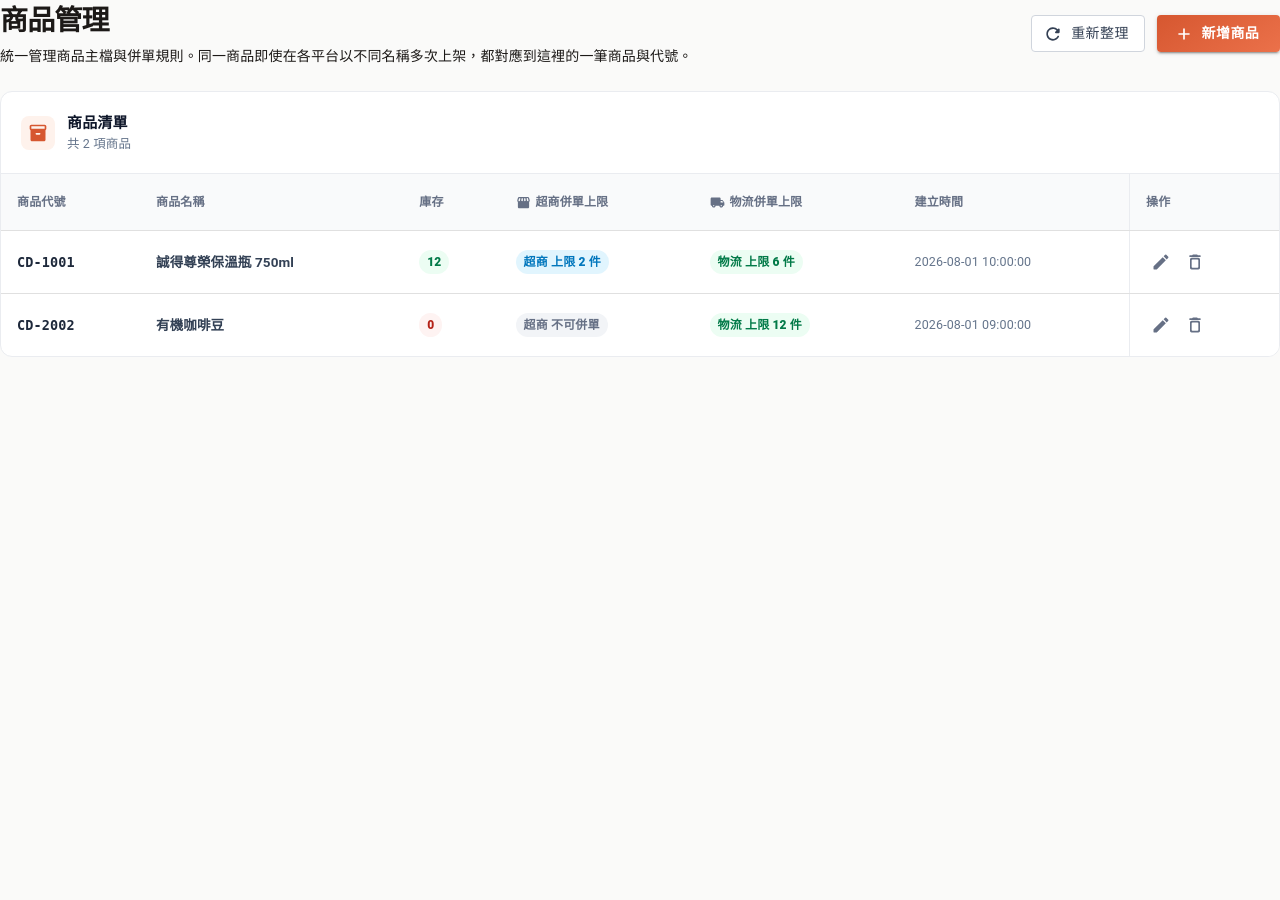
儲存變更會帶著商品 id 與新值呼叫 updateProduct，並重新載入清單
The width and height of the screenshot is (1280, 900).
Expected: the text "誠得尊榮保溫瓶 750ml" is shown, [156,254,294,270]
Click the button named "修改商品" in the row of "CD-1001". click: (1161, 262)
box: [1146,247,1176,277]
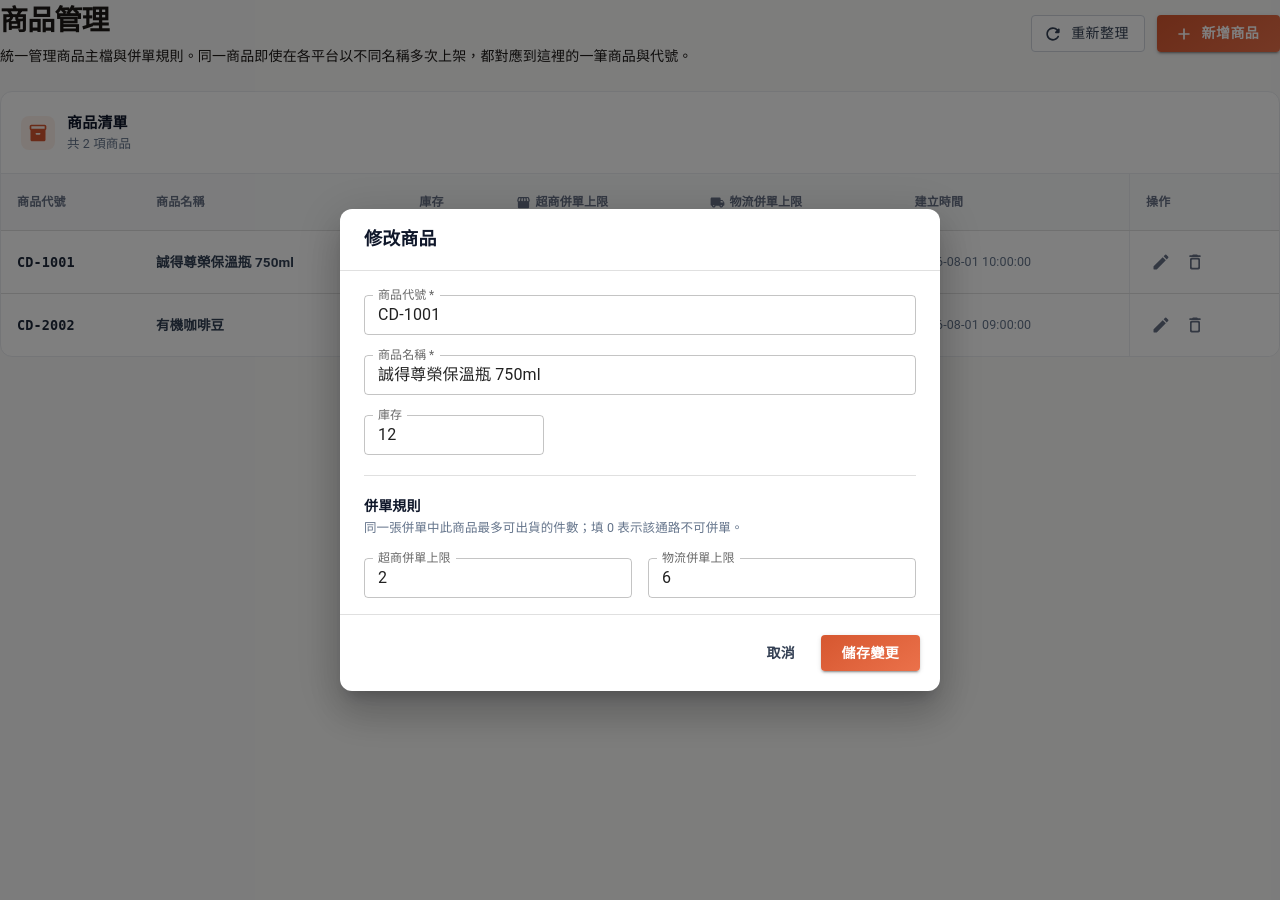
Replace the text in the field labelled "商品名稱 *" with "新名稱". click: (640, 375)
box: [364,355,916,395]
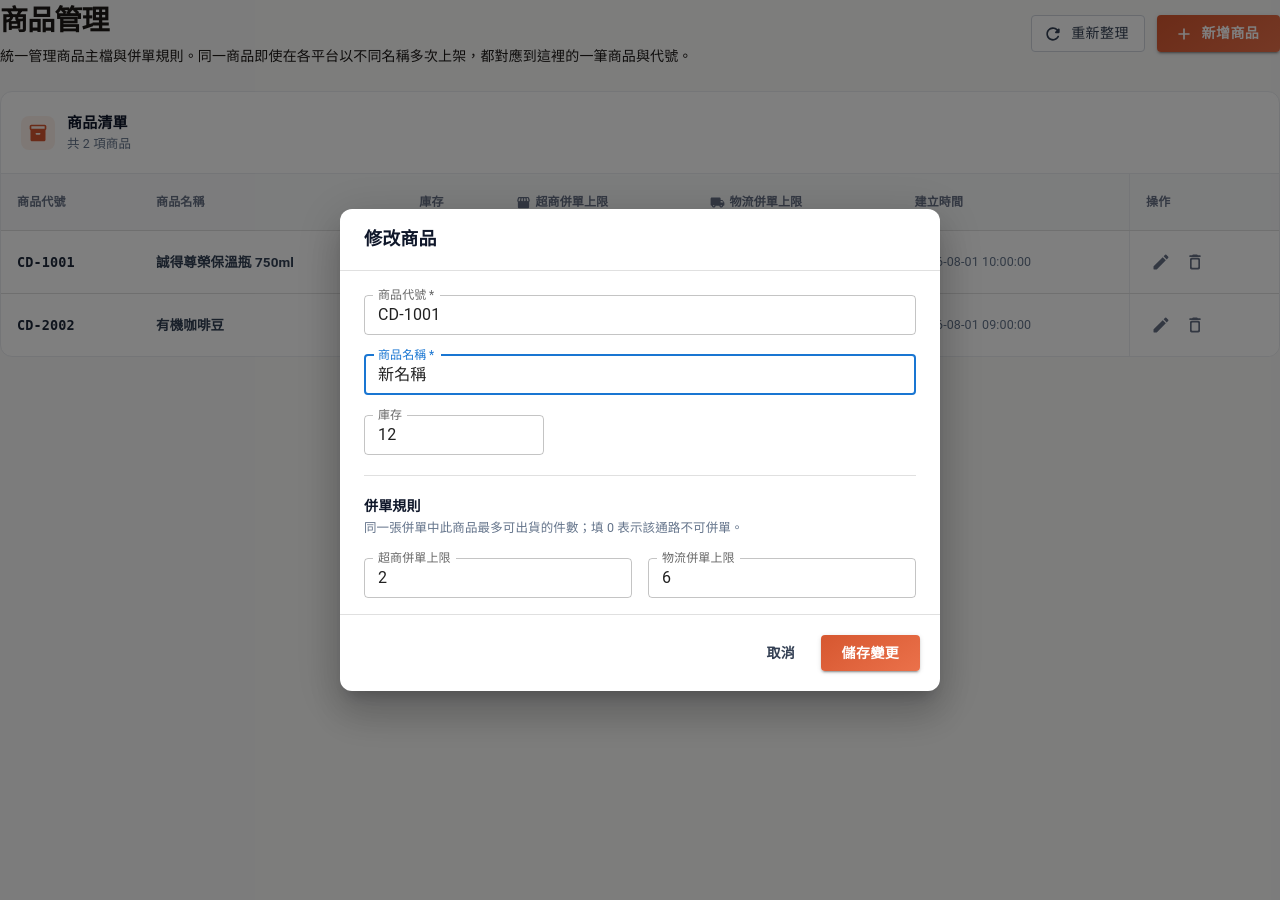
Replace the text in the number field labelled "庫存" with "30". click: (454, 435)
box: [364,415,544,455]
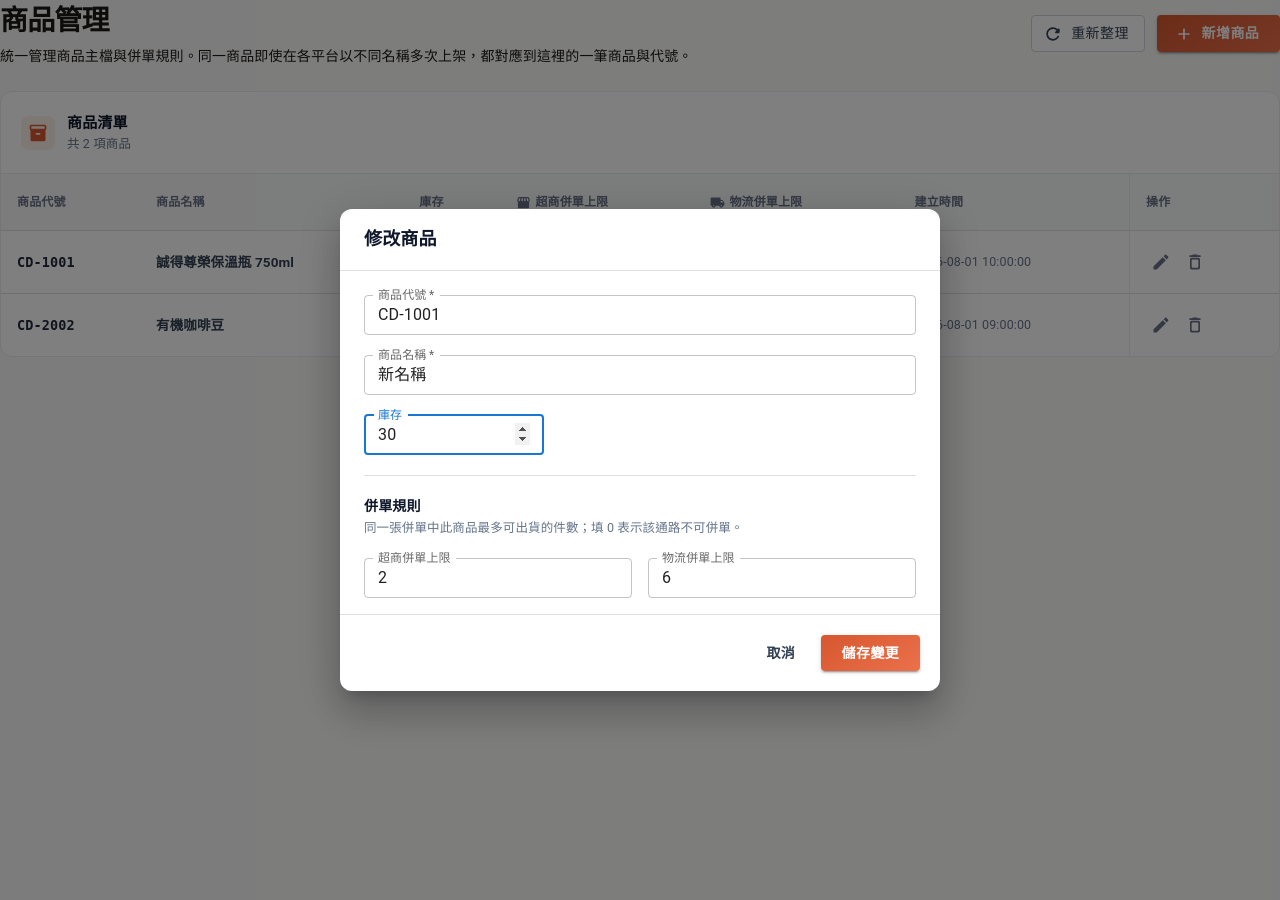
Replace the text in the number field labelled "超商併單上限" with "0". click: (498, 578)
box: [364,558,632,598]
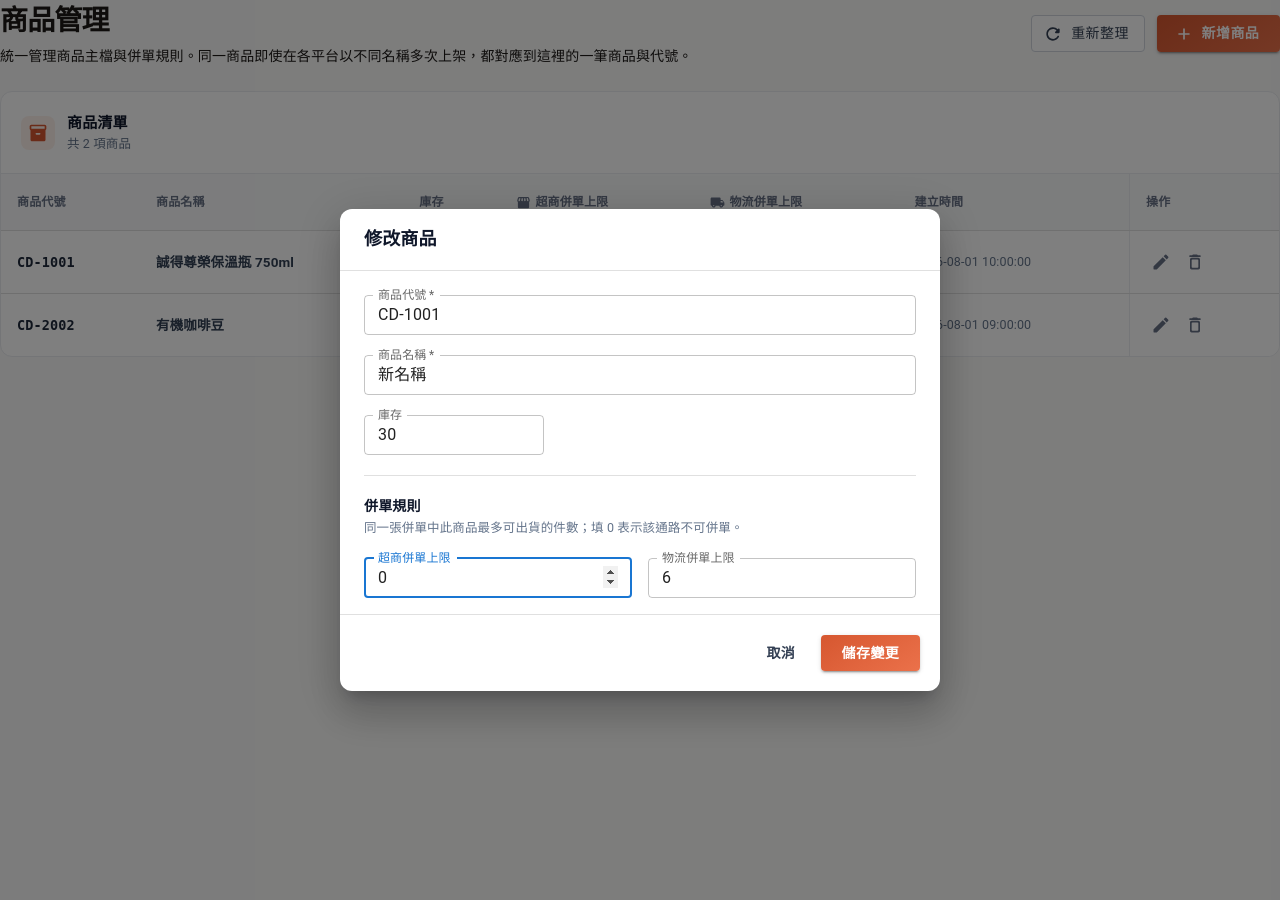
Replace the text in the number field labelled "物流併單上限" with "8". click: (782, 578)
box: [648,558,916,598]
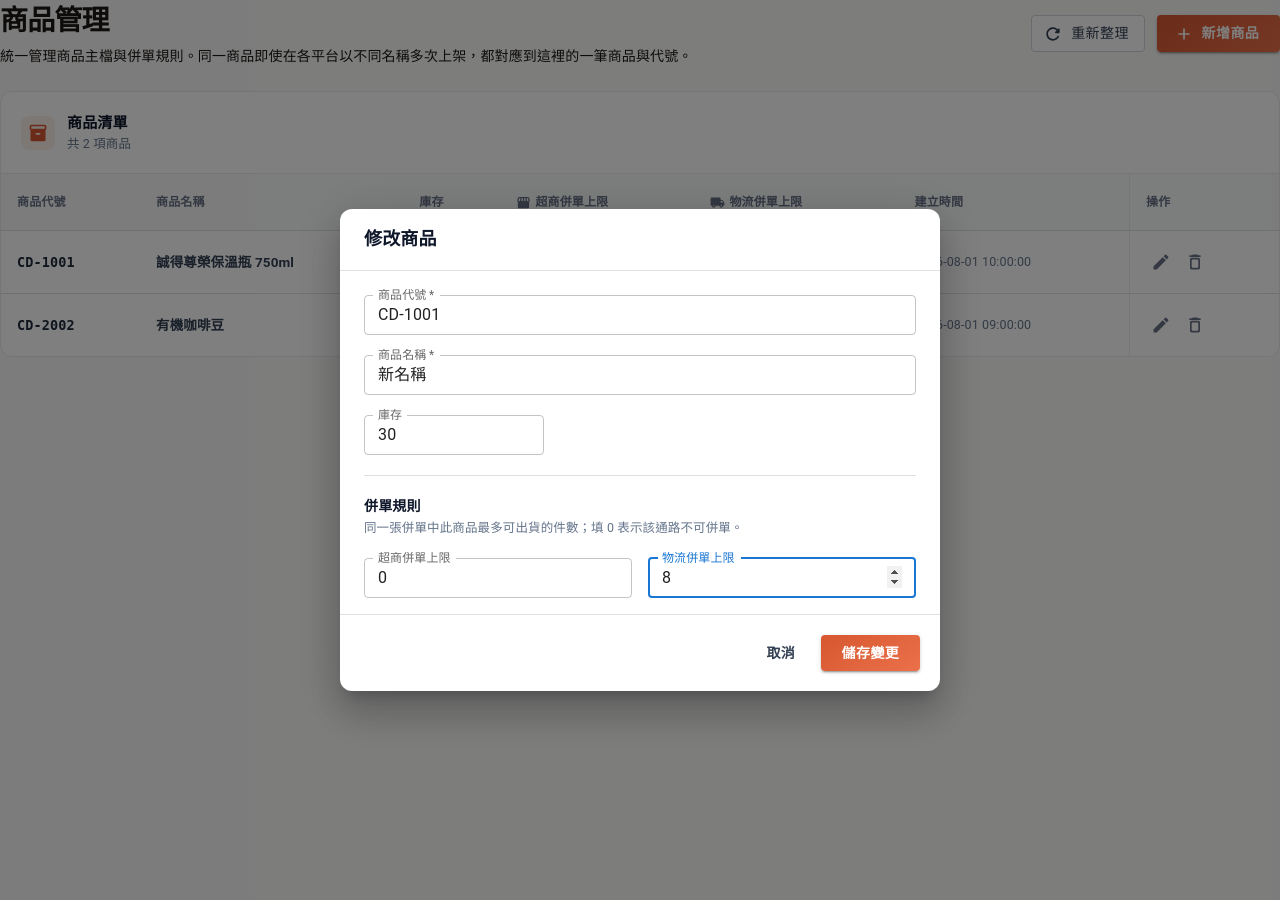
Click the button "儲存變更". click: (870, 653)
box: [821,635,920,671]
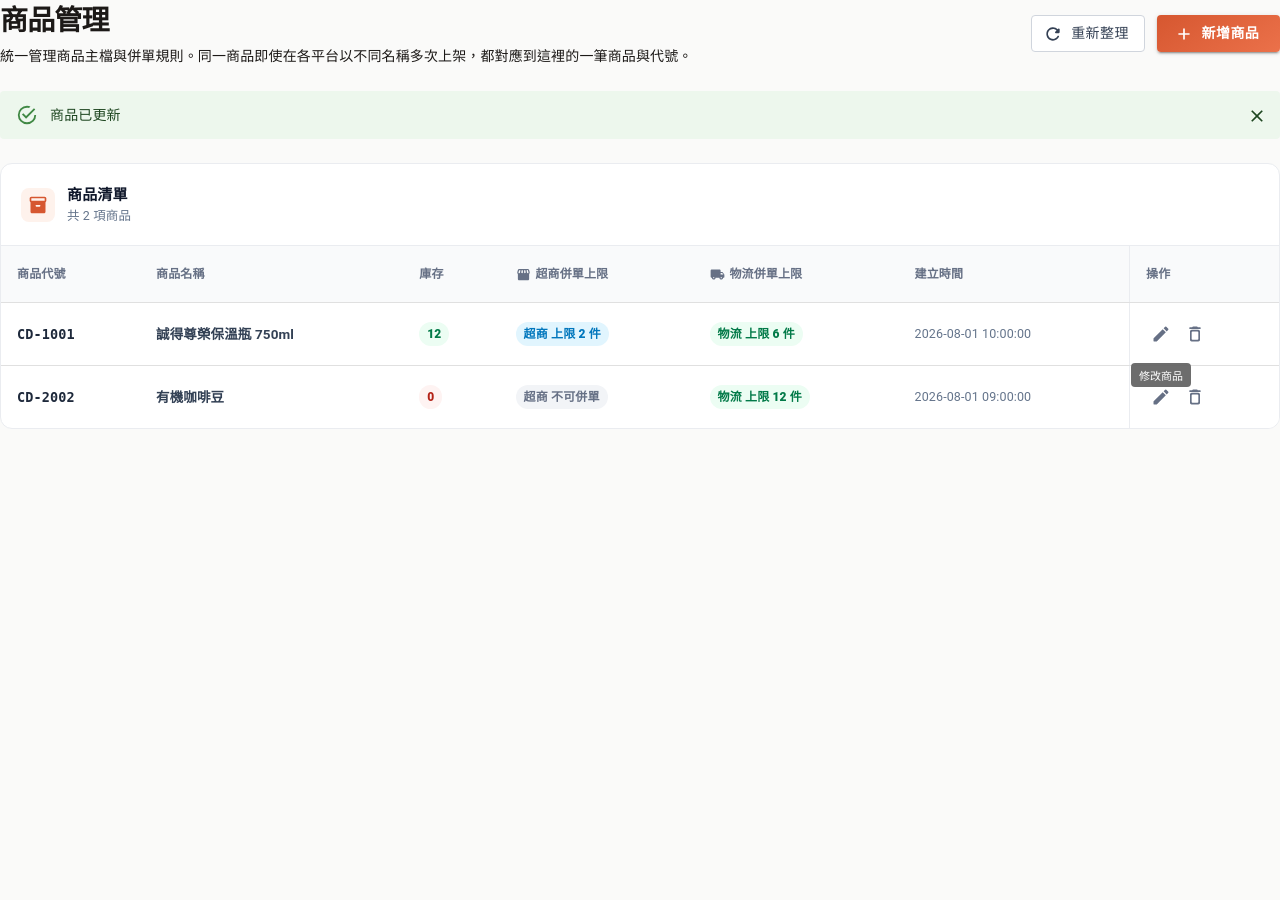
Now the text "商品已更新" is shown, box [50,107,121,123]
